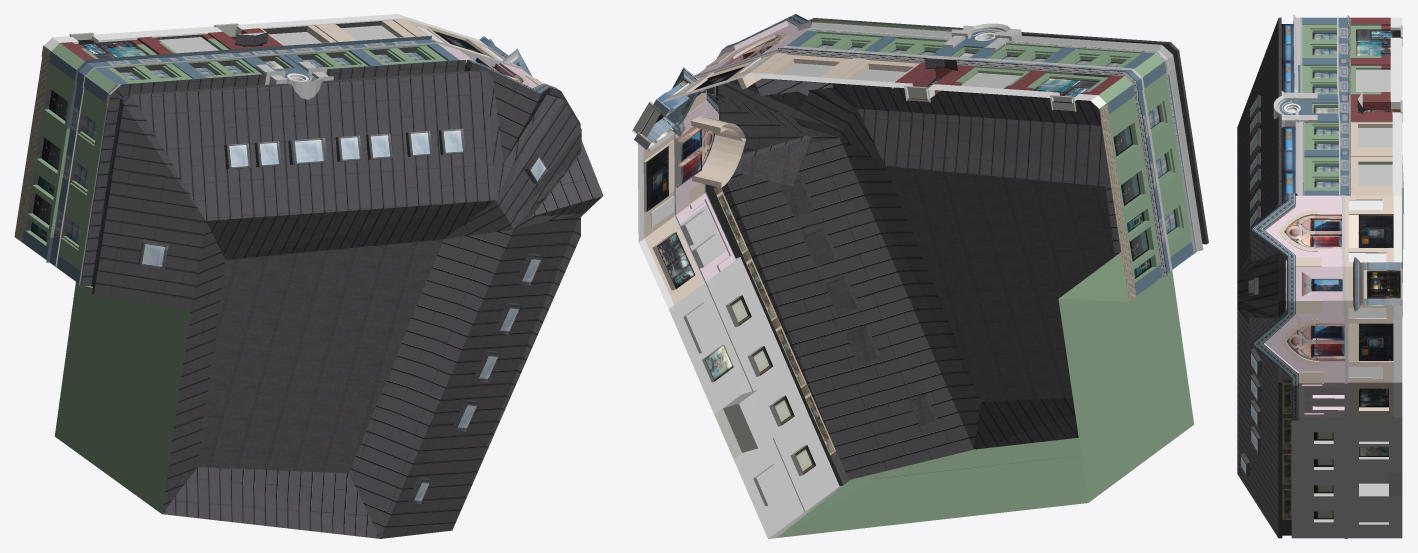
File: Viru_24.obj
The picture shows the model from 3 angles, left to right: view 1: azimuth 30°, elevation 25°; view 2: azimuth 150°, elevation 25°; view 3: azimuth 270°, elevation 25°; orthographic projection. The views are drawn at different scales.
Parts seen in each view (by area): view 1: viru24; view 2: viru24; view 3: viru24.
Boxes of the visible parts, x1,y1,x2,y2 form: viru24: (14,14,603,538); viru24: (632,14,1208,538); viru24: (1237,14,1403,538).
Bounding box in the file's own units: 33.98 × 33.4 × 12.51.
